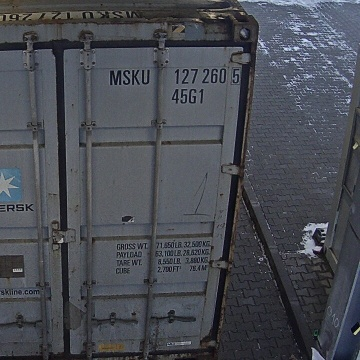serial_id: (110, 68, 240, 85)
